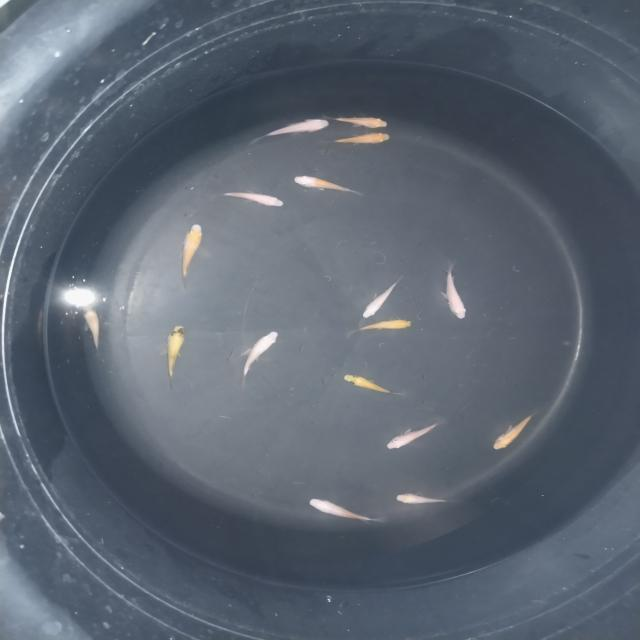nila: (246, 115, 337, 145), (238, 329, 281, 386), (306, 496, 390, 523), (384, 418, 450, 451), (490, 411, 540, 451), (284, 174, 366, 198), (357, 279, 404, 320), (177, 222, 206, 286), (342, 371, 404, 399), (441, 261, 468, 323), (164, 324, 186, 390), (74, 304, 102, 354), (322, 130, 392, 149), (212, 190, 285, 207), (319, 113, 389, 129), (346, 318, 414, 334), (390, 492, 455, 505)
